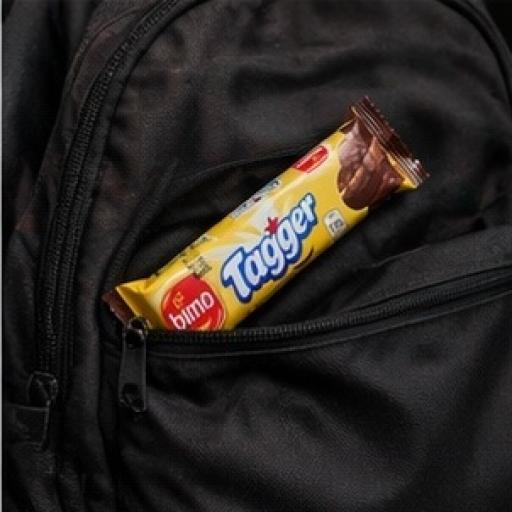tagger: (103, 90, 466, 416)
